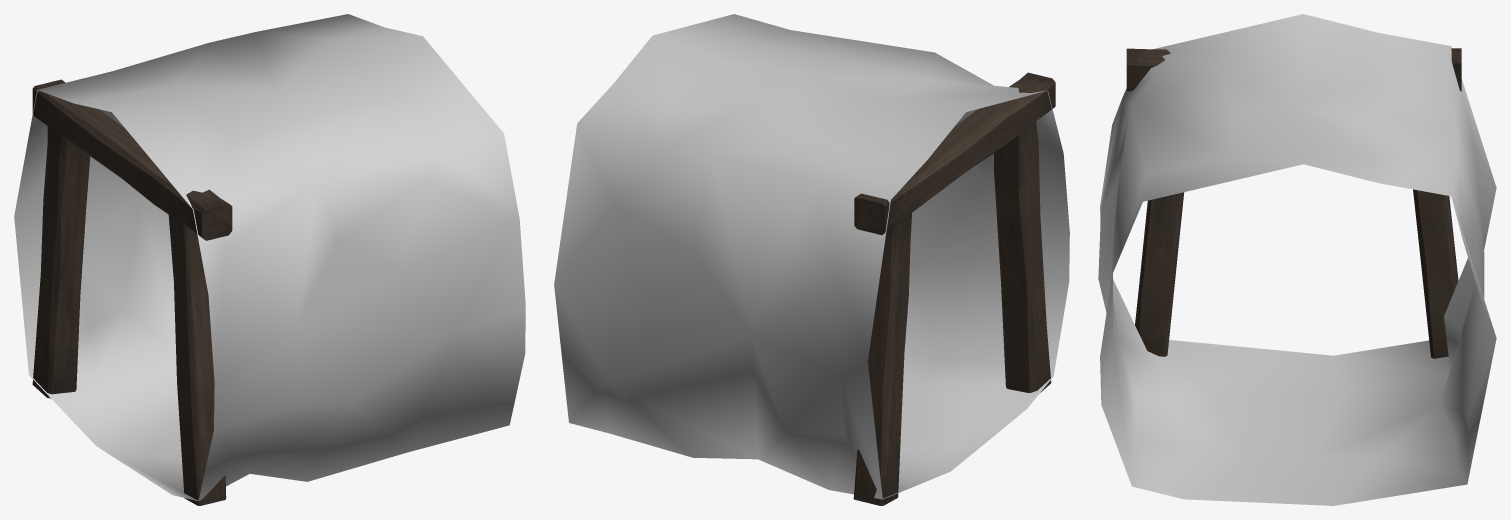
File: MKMine_Spline_3.fbx
3 views of the same model, side by side, from view 1: azimuth 30°, elevation 25°; view 2: azimuth 150°, elevation 25°; view 3: azimuth 270°, elevation 25° (orthographic).
Parts seen in each view (by area): view 1: mine_3; view 2: mine_3; view 3: mine_3.
Part boxes in pixels (bbox=[...]): mine_3: bbox=[14, 14, 525, 505]; mine_3: bbox=[554, 14, 1069, 505]; mine_3: bbox=[1098, 14, 1496, 505].
Bounding box in the file's own units: 343 × 306 × 330.
